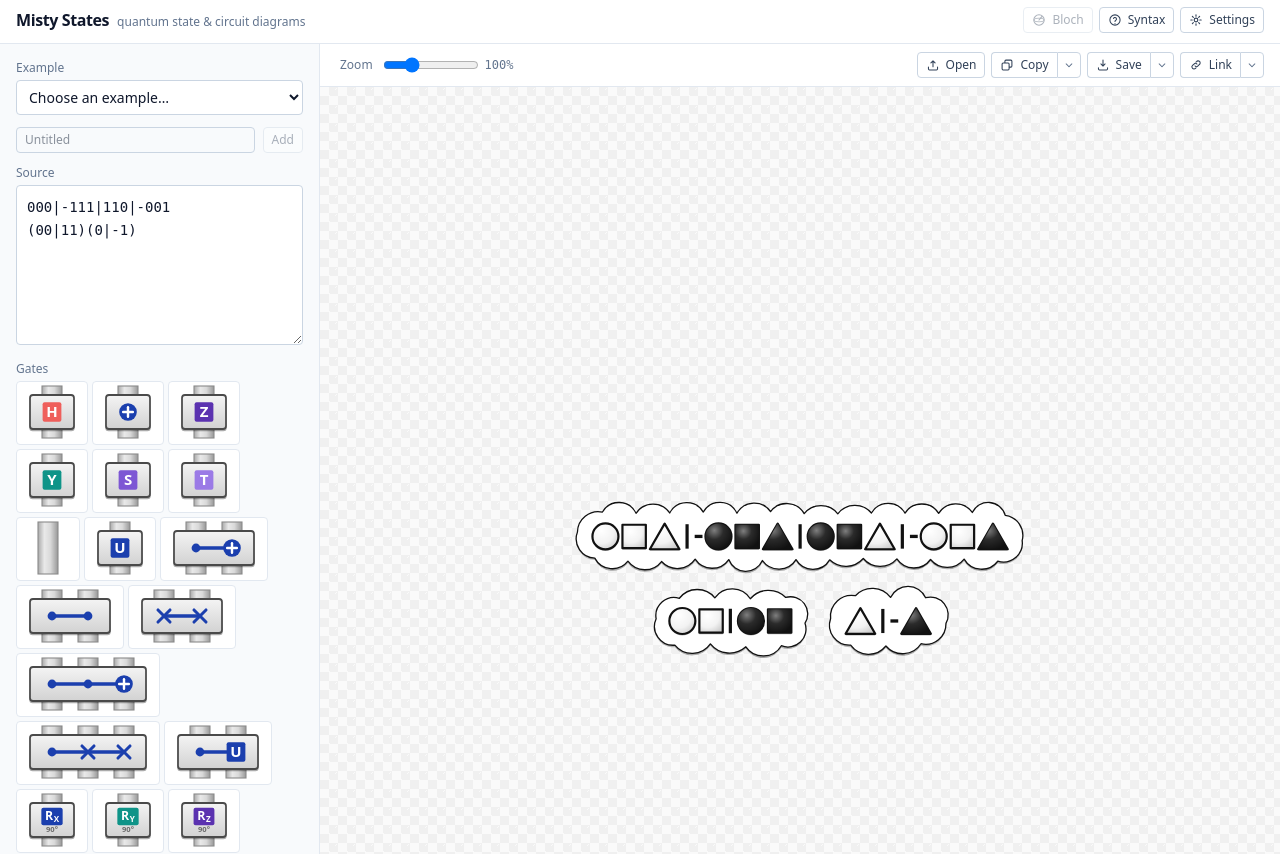
Test: drag-out format › offers SVG and PNG for a still, SVG the default (an animation is always a GIF)
Click the button "Settings".
click(1222, 20)  # box x1=1180 y1=7 x2=1264 y2=33
(page scrolled)
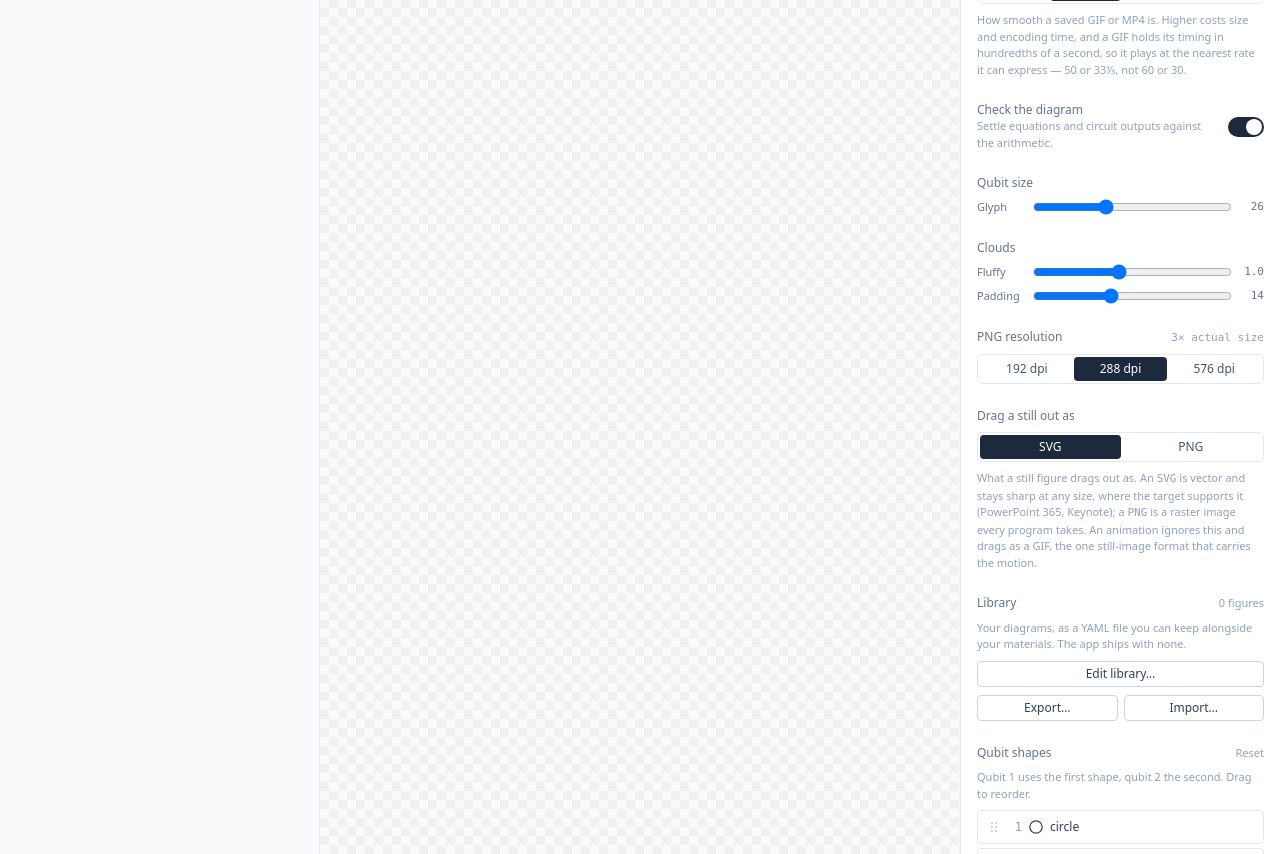
Check: the button "SVG" is shown, box x1=980 y1=435 x2=1120 y2=459
